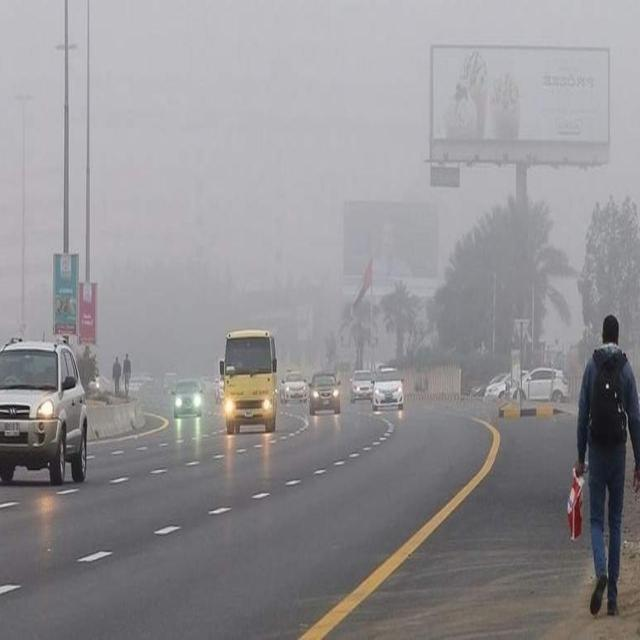Bus: (218, 329, 278, 433)
Car: (0, 331, 90, 490), (508, 367, 569, 402), (308, 370, 342, 417), (371, 367, 405, 412), (171, 379, 204, 416), (280, 368, 309, 406), (350, 367, 375, 404), (215, 374, 224, 402)
